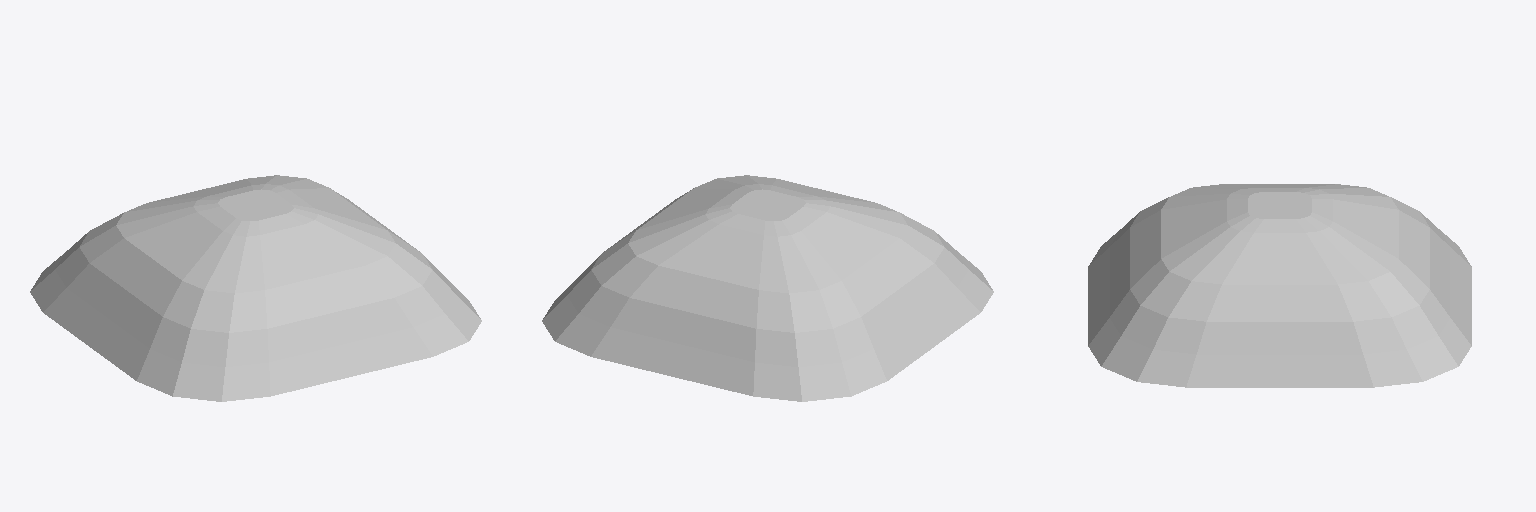
File: dammuso.obj
The picture shows the model from 3 angles: view 1: azimuth 30°, elevation 25°; view 2: azimuth 150°, elevation 25°; view 3: azimuth 270°, elevation 25°; orthographic projection.
Parts seen in each view (by area): view 1: Cube; view 2: Cube; view 3: Cube.
Part boxes in pixels (x1,y1,x2,y2): Cube: (30, 175, 481, 401); Cube: (542, 175, 993, 401); Cube: (1088, 184, 1471, 387).
Size of the model in its own units: 7.23 by 2.1 by 7.23.